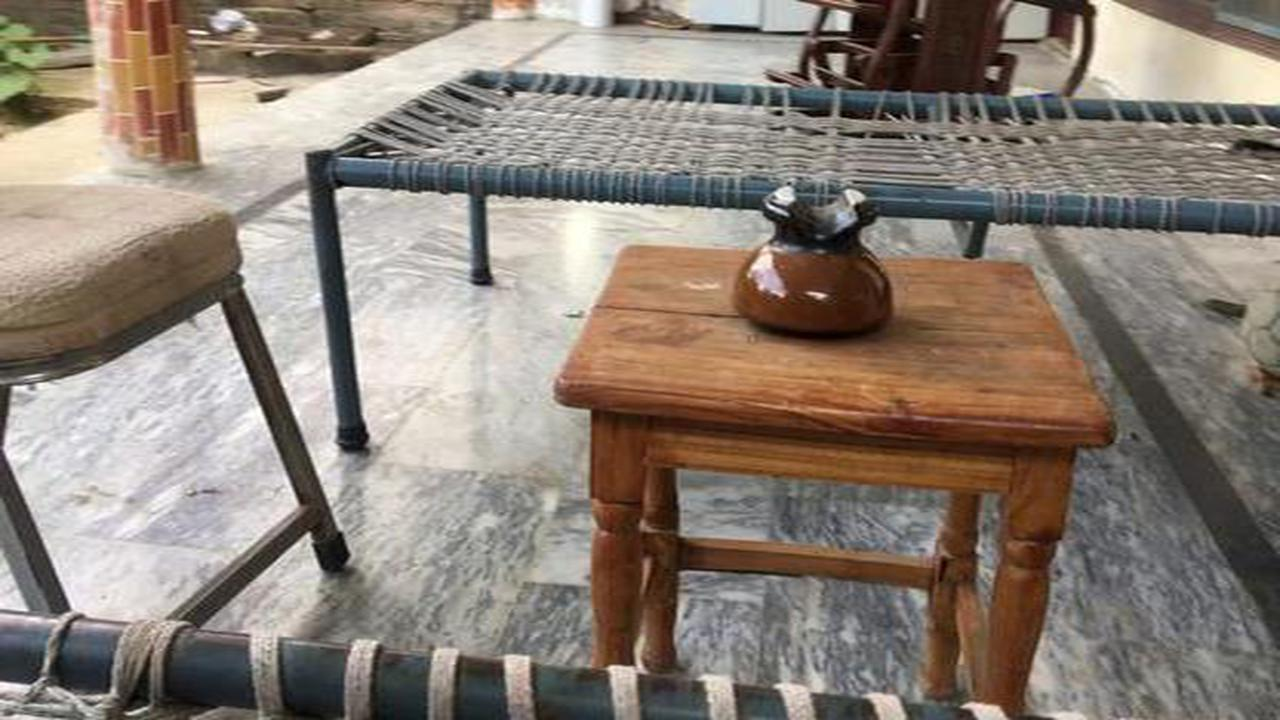insulator_pin: (717, 165, 927, 357)
